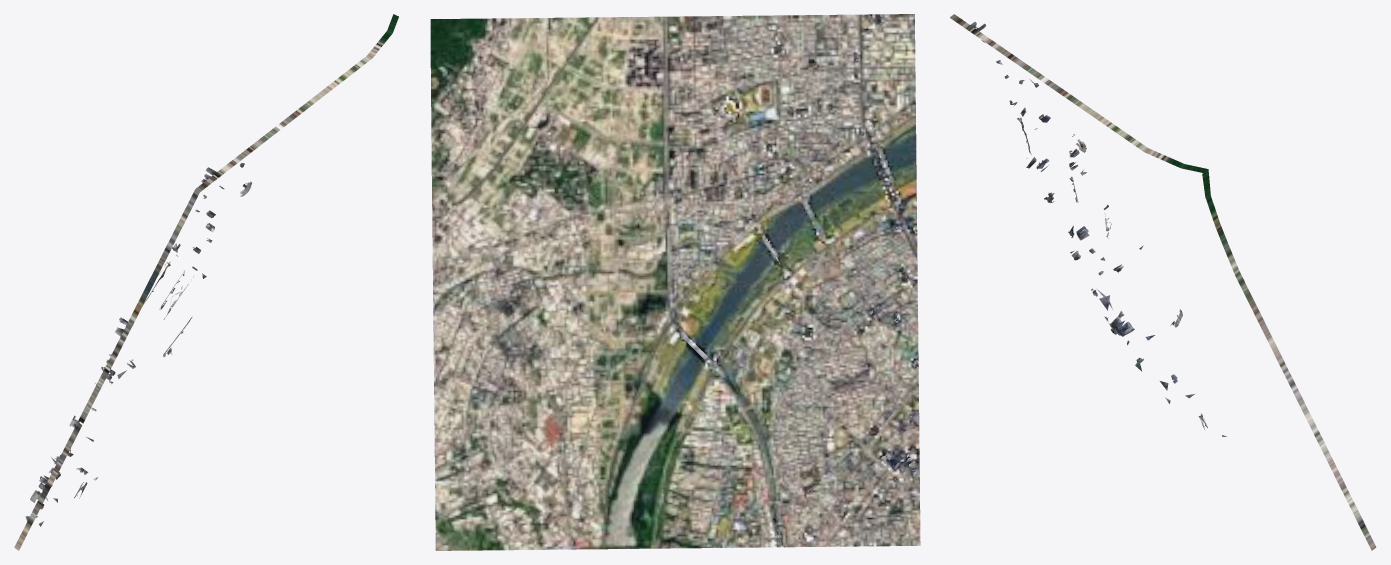
3 views of the same model, side by side, from view 1: azimuth 30°, elevation 25°; view 2: azimuth 150°, elevation 25°; view 3: azimuth 270°, elevation 25° (orthographic). The views are drawn at different scales.
Size of the model in its own units: 4828 by 4519 by 4124.
Materials: 1 (1 with a texture image).
